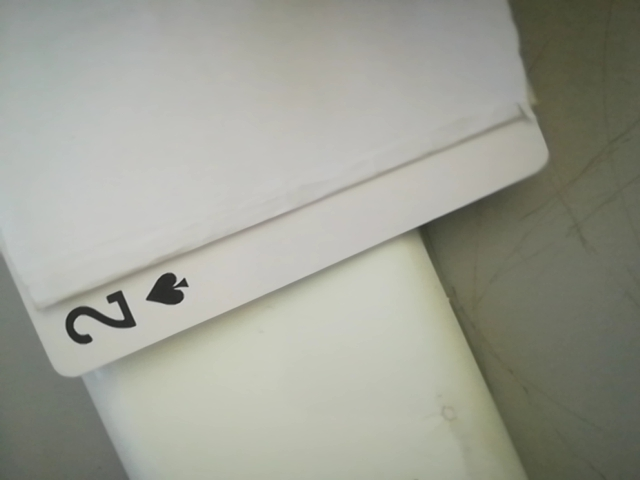ht 2: (47, 259, 206, 359)
